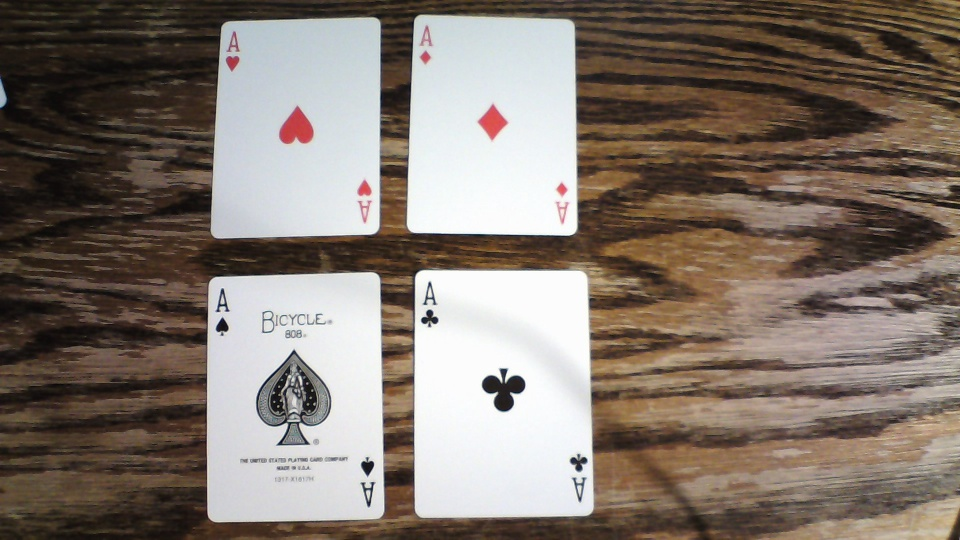ace: (412, 267, 596, 517), (205, 270, 385, 520), (407, 13, 578, 236), (212, 15, 381, 238)
